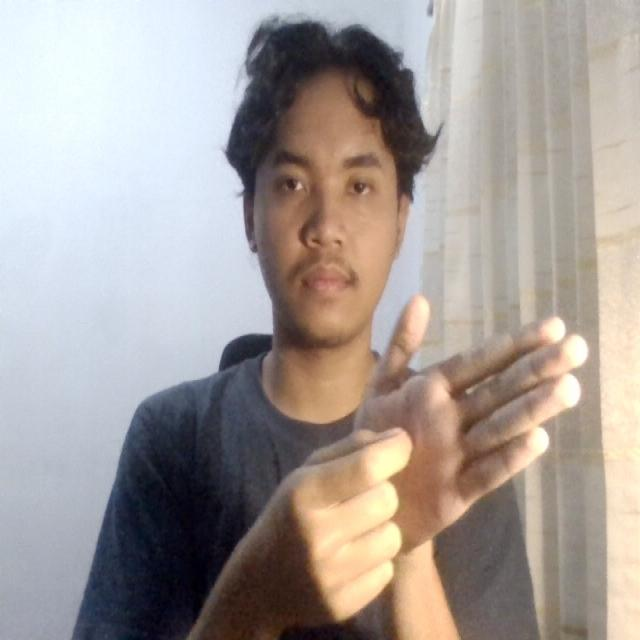L: (266, 286, 608, 606)
